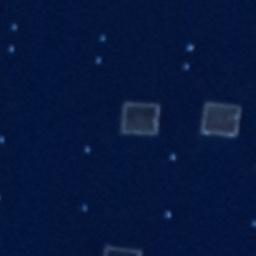square_cover: (196, 97, 246, 145), (117, 97, 166, 141)
